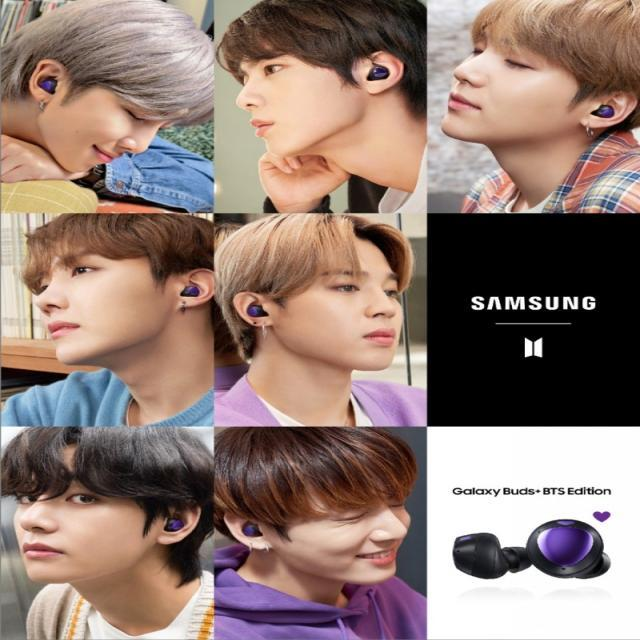earphone: (442, 508, 606, 604), (138, 490, 198, 557), (353, 52, 397, 116), (232, 508, 275, 557), (23, 73, 72, 112), (180, 270, 207, 327), (248, 290, 272, 345), (588, 95, 615, 142)
